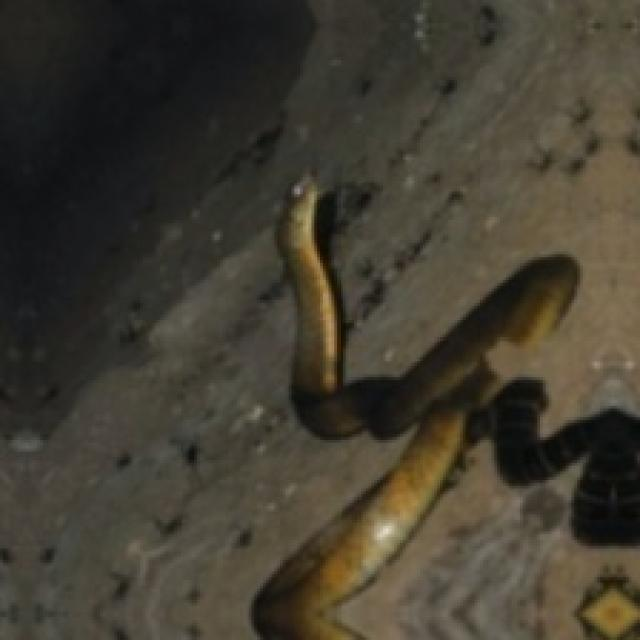king cobra: (254, 177, 574, 637), (277, 177, 577, 434)
